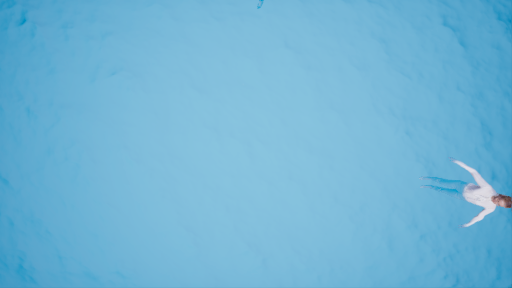person: (421, 154, 512, 229)
